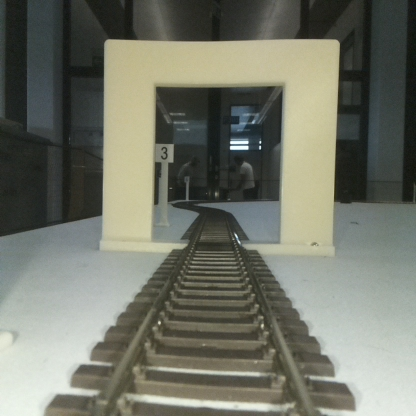white-info-3: (154, 144, 173, 225)
